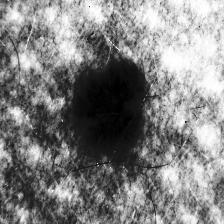Benign Marking or Mole: (73, 64, 141, 145)
